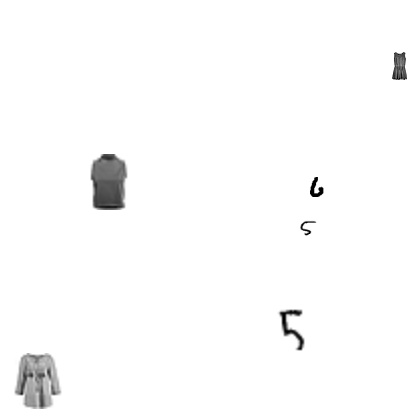5: (262, 298, 318, 354), (295, 216, 317, 238)
6: (301, 175, 329, 203)
Dress: (385, 52, 413, 80)
Shirt: (9, 353, 65, 409)
T-shirt/top: (81, 154, 137, 210)
